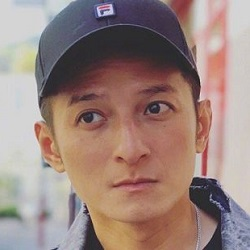unmask: (43, 65, 201, 221)
